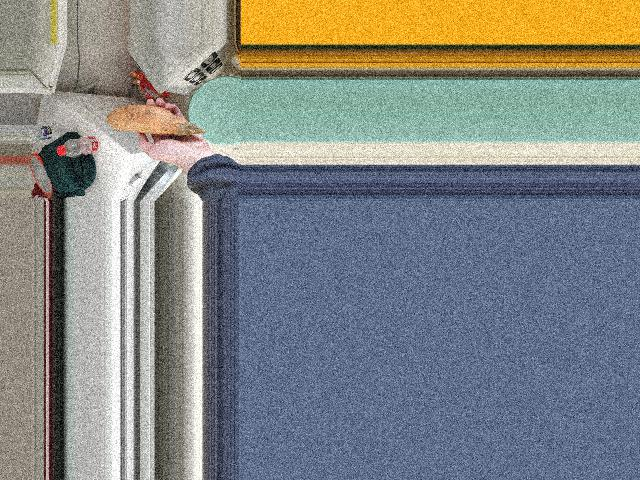sweet_potato: (110, 101, 215, 129)
